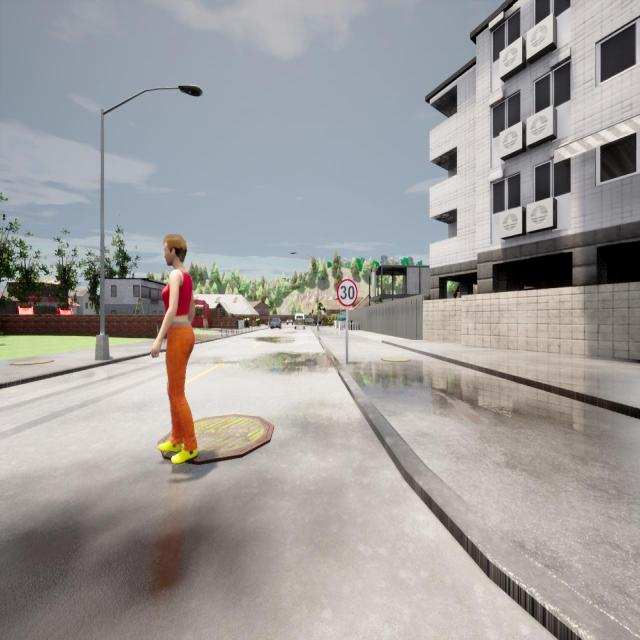Pedestrian: (151, 227, 197, 463)
Traffic_Signs: (336, 278, 359, 308)
Vehicle: (294, 313, 305, 330), (270, 318, 282, 329), (304, 316, 312, 327), (286, 318, 294, 325)
traffic_light: (312, 306, 314, 314)
